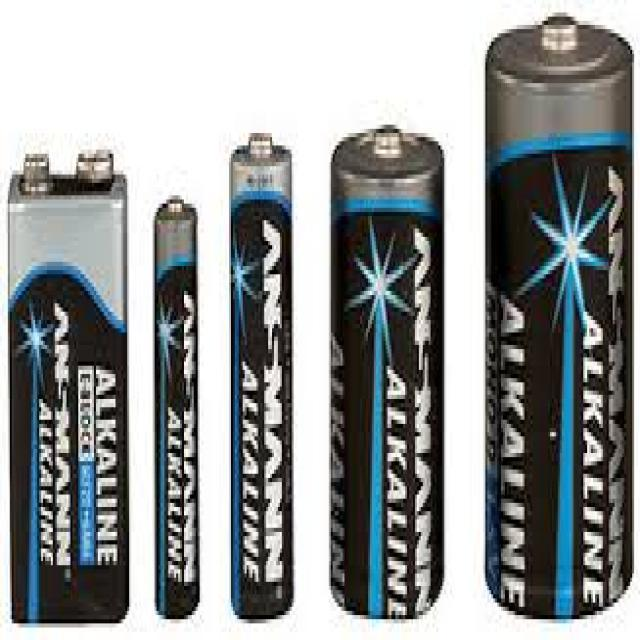Battery: (483, 6, 640, 639), (1, 134, 144, 630), (318, 119, 454, 640), (229, 128, 297, 629), (148, 196, 204, 628)
